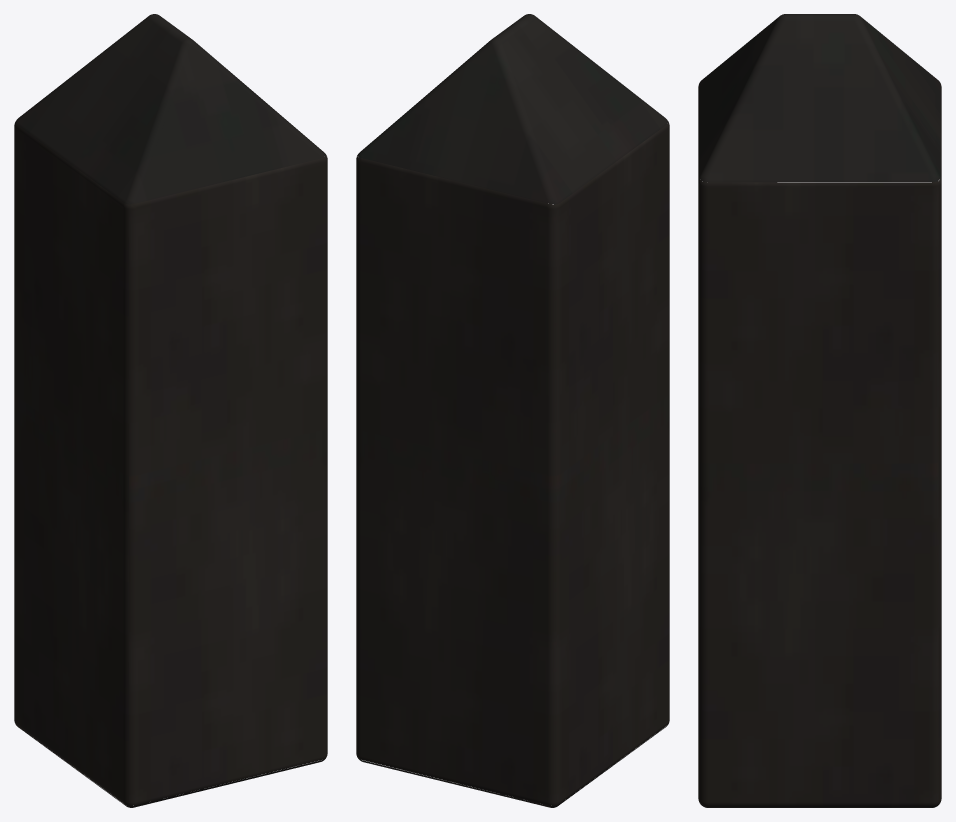
File: Rez_Kral_cerny.glb
3 renders of one model, left to right at view 1: azimuth 30°, elevation 25°; view 2: azimuth 150°, elevation 25°; view 3: azimuth 270°, elevation 25°, orthographic. The views are drawn at different scales.
Parts seen in each view (by area): view 1: Rez_Kral_cerny; view 2: Rez_Kral_cerny; view 3: Rez_Kral_cerny.
Part boxes in pixels (x1,y1,x2,y2): Rez_Kral_cerny: [14, 14, 327, 807]; Rez_Kral_cerny: [356, 14, 669, 807]; Rez_Kral_cerny: [698, 14, 941, 807].
Size of the model in its own units: 0.02 by 0.0676 by 0.02.
2 materials, 2 textured.
